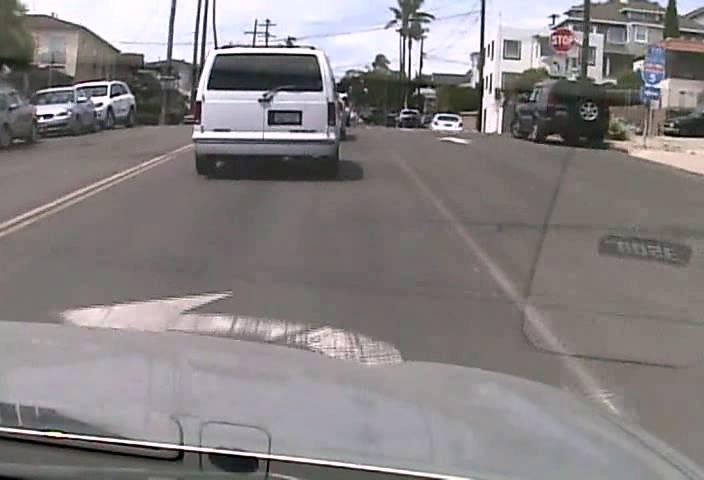stop: (549, 27, 576, 52)
